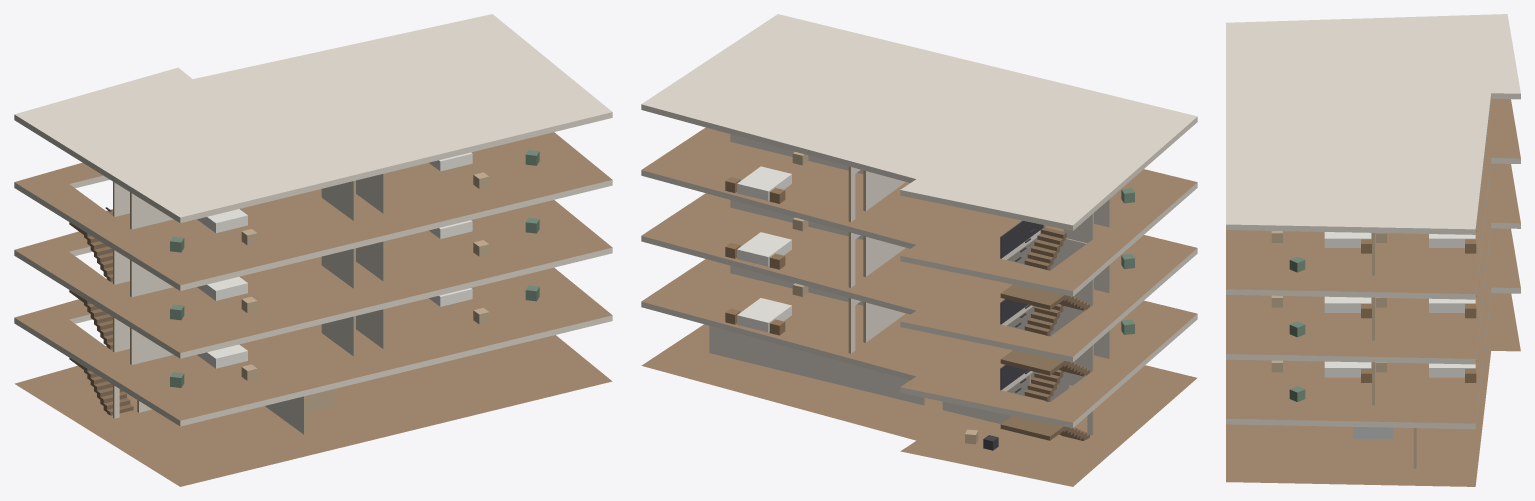
Rendered from interior.glb.
3 views of the same model, side by side, from view 1: azimuth 30°, elevation 25°; view 2: azimuth 150°, elevation 25°; view 3: azimuth 270°, elevation 25° (orthographic). The views are drawn at different scales.
Parts seen in each view (by area): view 1: slabs, partitions, stair, coarse-s1, coarse-s3, coarse-s2; view 2: slabs, partitions, stair, coarse-s1, coarse-s2, coarse-s3; view 3: slabs, coarse-s1, coarse-s2, coarse-s3, partitions, coarse-s0.
Part boxes in pixels (bbox=[...]): slabs: bbox=[14, 14, 612, 486]; partitions: bbox=[113, 173, 385, 434]; stair: bbox=[69, 207, 133, 415]; coarse-s1: bbox=[170, 285, 539, 387]; coarse-s3: bbox=[170, 150, 539, 252]; coarse-s2: bbox=[170, 217, 539, 320]; slabs: bbox=[641, 14, 1197, 486]; partitions: bbox=[709, 134, 1110, 435]; stair: bbox=[1000, 220, 1089, 440]; coarse-s1: bbox=[725, 283, 1134, 335]; coarse-s2: bbox=[725, 217, 1134, 269]; coarse-s3: bbox=[725, 152, 1134, 203]; slabs: bbox=[1226, 14, 1520, 486]; coarse-s1: bbox=[1271, 360, 1476, 401]; coarse-s2: bbox=[1271, 295, 1476, 337]; coarse-s3: bbox=[1271, 230, 1476, 272]; partitions: bbox=[1372, 233, 1416, 468]; coarse-s0: bbox=[1353, 427, 1392, 439].
Bounding box in the file's own units: 21.75 × 12.15 × 12.59.
